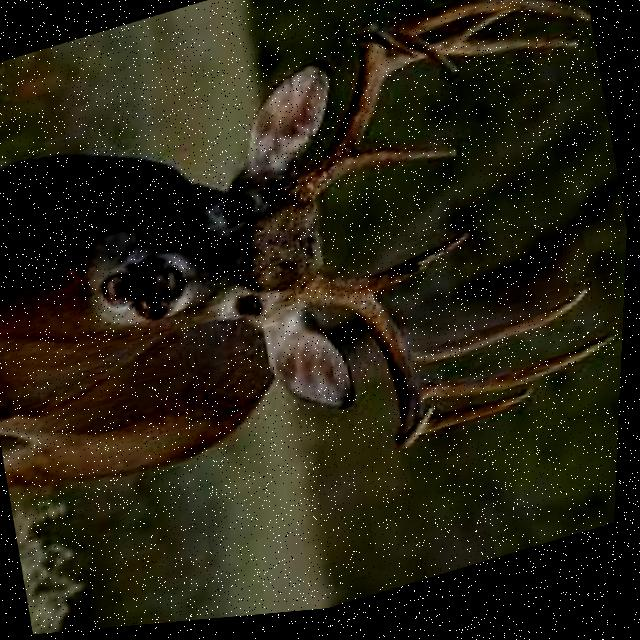L-F: (286, 28, 418, 210)
L-G1: (349, 151, 459, 179)
R-F: (306, 279, 439, 456)
R-G1: (361, 237, 472, 299)
R-G2: (415, 298, 591, 374)
R-G3: (424, 342, 623, 406)
R-G4: (426, 396, 537, 440)
